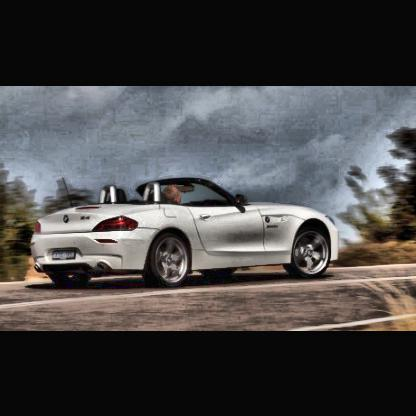BMW Z4 Convertible 2012: (29, 175, 344, 290)
